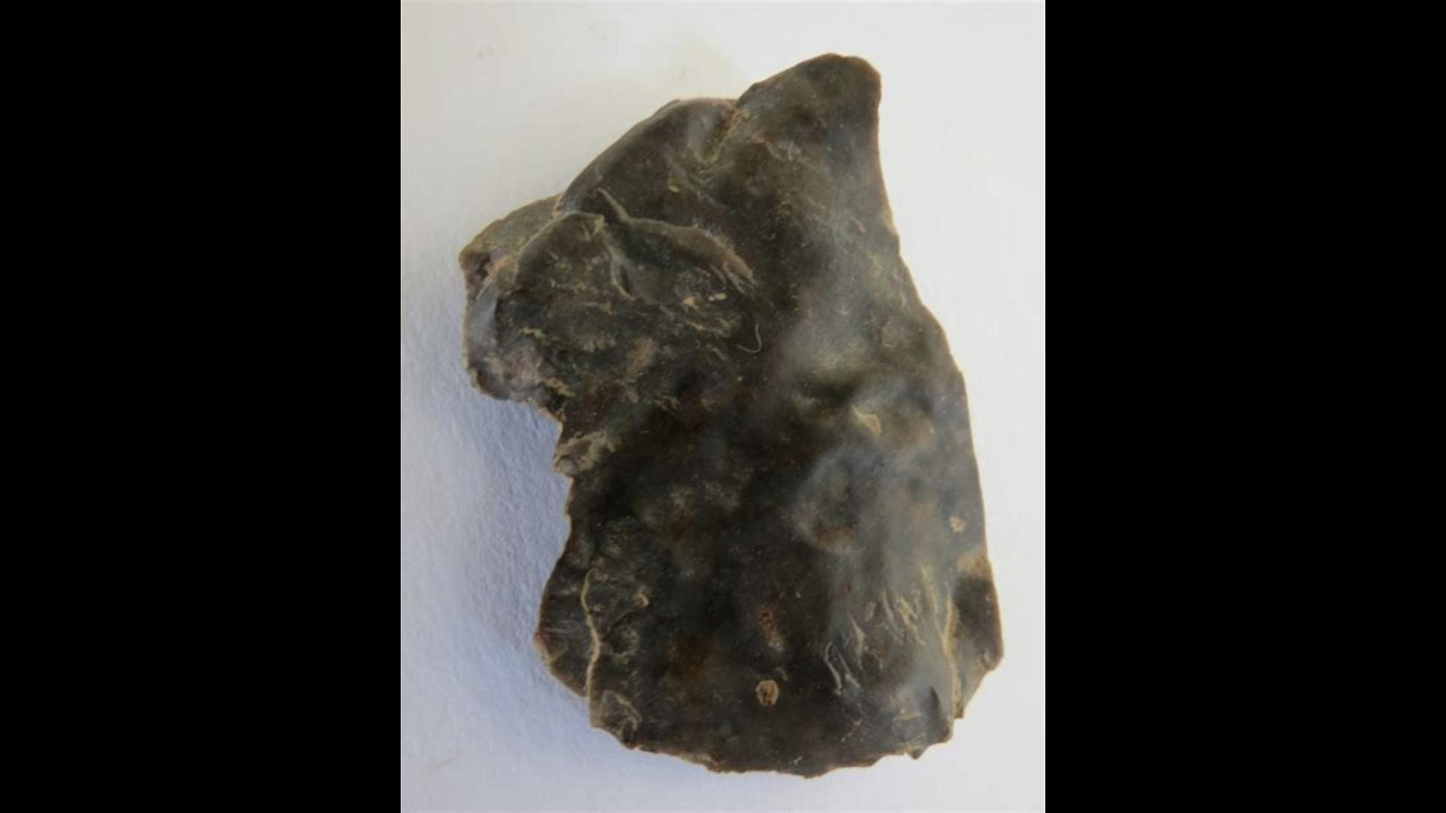rock: (461, 57, 999, 774)
